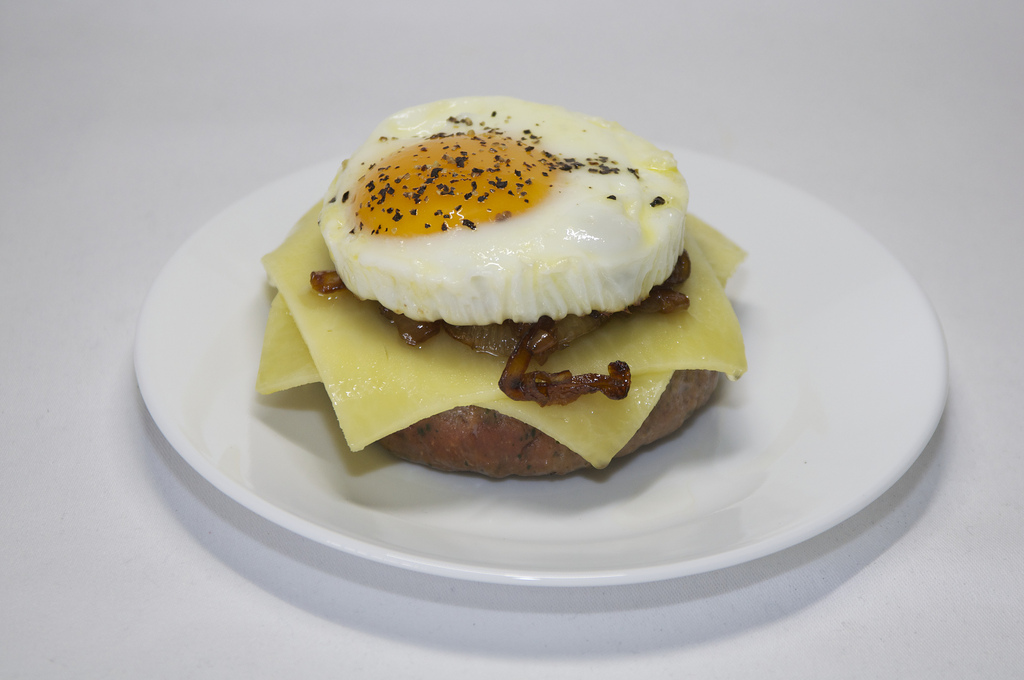fried egg: (328, 98, 686, 297)
slice of bread: (331, 389, 746, 481)
